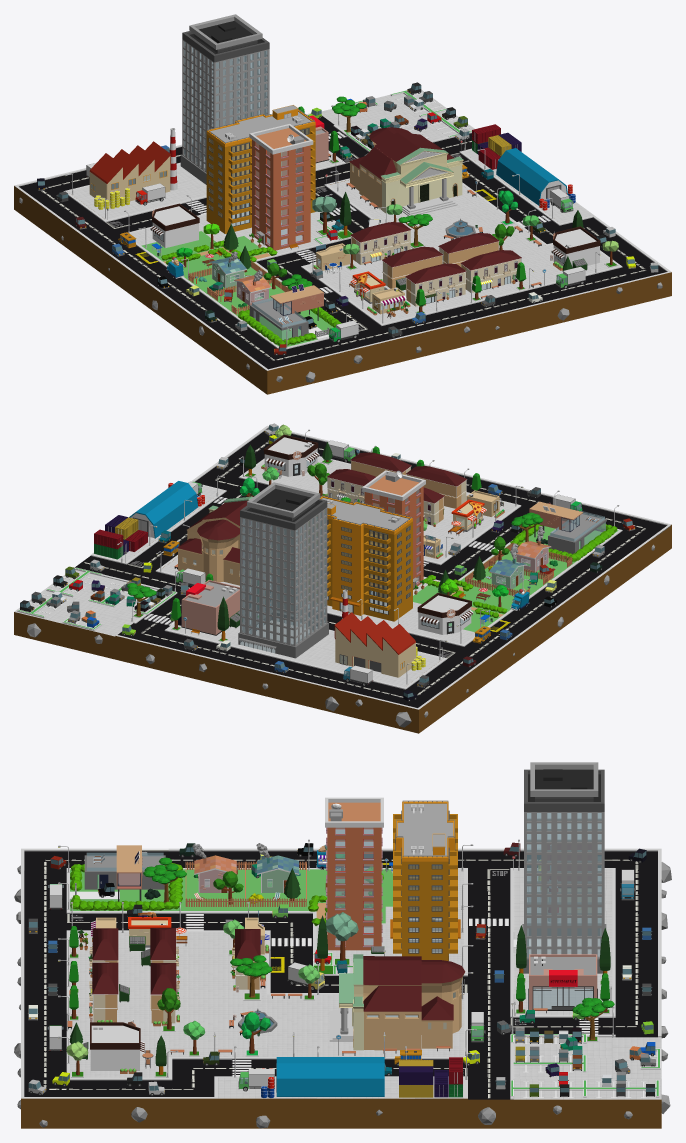
Rendered from MAPANOVIS.glb.
The picture shows the model from 3 angles, top to bottom: view 1: azimuth 30°, elevation 25°; view 2: azimuth 150°, elevation 25°; view 3: azimuth 270°, elevation 25°; orthographic projection. The views are drawn at different scales.
Visible parts, largest first — view 1: Ufficio, Struttura, Condominio.001, Floor.001, Factory, Cube_Colore_0, Villa, Storage, Cube.003_Colore_0, Plane.012, Plane.089, Plane.067 (+46 smaller); view 2: Ufficio, Floor.001, Factory, Plane.069, Cube_Colore_0, Villa, SuperMarket, Storage, Cube.003_Colore_0, Retro, Condominio.001, Plane.047 (+50 smaller); view 3: Ufficio, Struttura, Floor.001, Condominio.001, Plane.069, Storage, Cube_Colore_0, SuperMarket, Cube.003_Colore_0, Plane.089, Villa, Plane.072 (+105 smaller).
Part boxes in pixels (bbox=[...]): Ufficio: bbox=[182, 39, 269, 172]; Struttura: bbox=[359, 132, 463, 213]; Condominio.001: bbox=[252, 139, 310, 250]; Floor.001: bbox=[206, 125, 315, 223]; Factory: bbox=[89, 141, 170, 206]; Cube_Colore_0: bbox=[182, 14, 269, 62]; Villa: bbox=[249, 285, 323, 340]; Storage: bbox=[496, 148, 567, 205]; Cube.003_Colore_0: bbox=[206, 105, 315, 146]; Plane.012: bbox=[247, 351, 300, 394]; Plane.089: bbox=[328, 180, 490, 226]; Plane.067: bbox=[585, 266, 638, 312]; Ufficio: bbox=[240, 507, 327, 646]; Floor.001: bbox=[308, 516, 412, 610]; Factory: bbox=[334, 612, 415, 677]; Plane.069: bbox=[14, 612, 166, 667]; Cube_Colore_0: bbox=[240, 482, 327, 530]; Villa: bbox=[529, 501, 606, 554]; SuperMarket: bbox=[181, 580, 242, 635]; Storage: bbox=[129, 481, 198, 538]; Cube.003_Colore_0: bbox=[320, 495, 412, 534]; Retro: bbox=[197, 519, 239, 582]; Condominio.001: bbox=[364, 486, 423, 588]; Plane.047: bbox=[351, 679, 406, 725]; Ufficio: bbox=[524, 812, 604, 958]; Struttura: bbox=[339, 954, 421, 1050]; Floor.001: bbox=[393, 810, 457, 956]; Condominio.001: bbox=[326, 827, 382, 950]; Plane.069: bbox=[513, 1015, 661, 1128]; Storage: bbox=[276, 1057, 384, 1096]; Cube_Colore_0: bbox=[524, 762, 604, 811]; SuperMarket: bbox=[528, 954, 597, 1010]; Cube.003_Colore_0: bbox=[396, 800, 454, 861]; Plane.089: bbox=[306, 994, 464, 1056]; Villa: bbox=[84, 845, 165, 901]; Plane.072: bbox=[66, 1077, 119, 1128].
Bounding box in the file's own units: 122 × 46.88 × 134.
12 materials, 7 textured.
